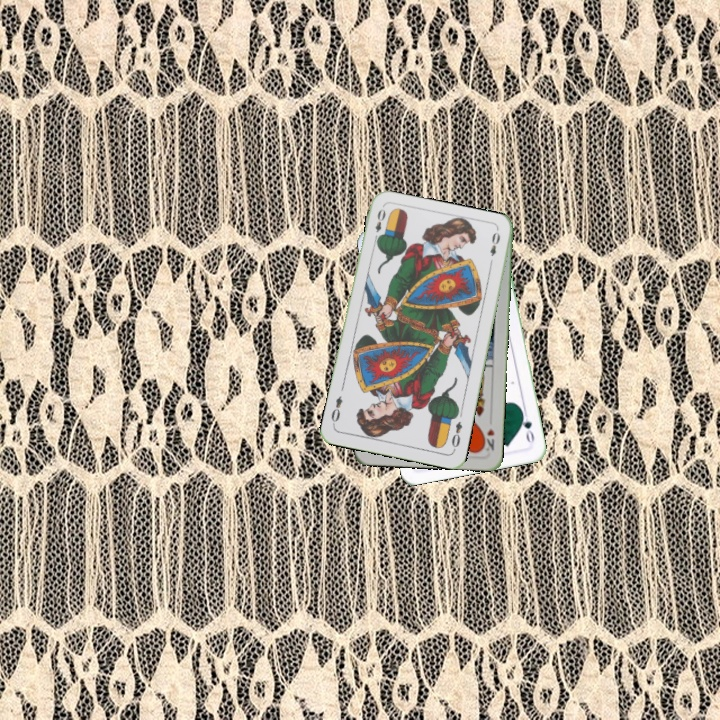EO: (370, 205, 388, 244), (447, 417, 465, 453)
GO: (517, 406, 537, 447)
HK: (478, 425, 497, 453)
